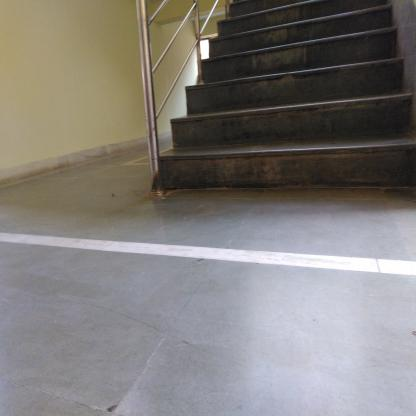stairs: (233, 3, 394, 198)
